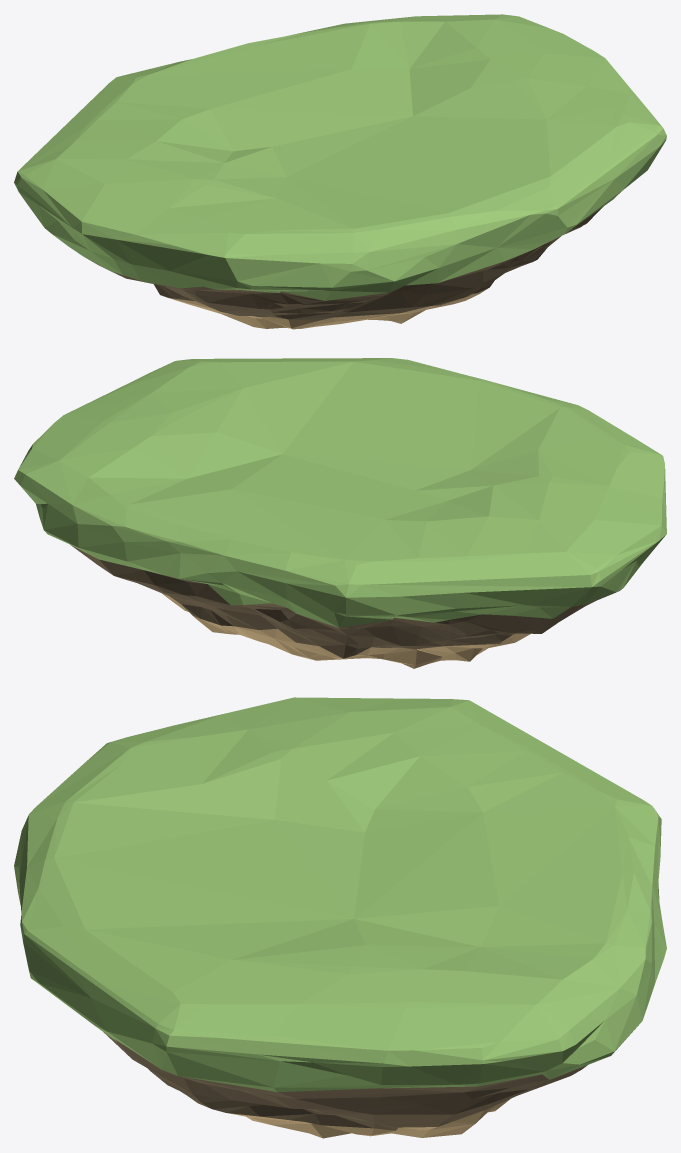
The model's file is floating island 3.fbx.
The picture shows the model from 3 angles, top to bottom: view 1: azimuth 30°, elevation 25°; view 2: azimuth 150°, elevation 25°; view 3: azimuth 270°, elevation 25°; orthographic projection. The views are drawn at different scales.
Visible parts, largest first — view 1: polySurface9; view 2: polySurface9; view 3: polySurface9.
Part boxes in pixels (x1,y1,x2,y2): polySurface9: (14,14,666,329); polySurface9: (14,358,666,668); polySurface9: (14,697,666,1138).
Size of the model in its own units: 2.84 by 0.7883 by 2.2.
